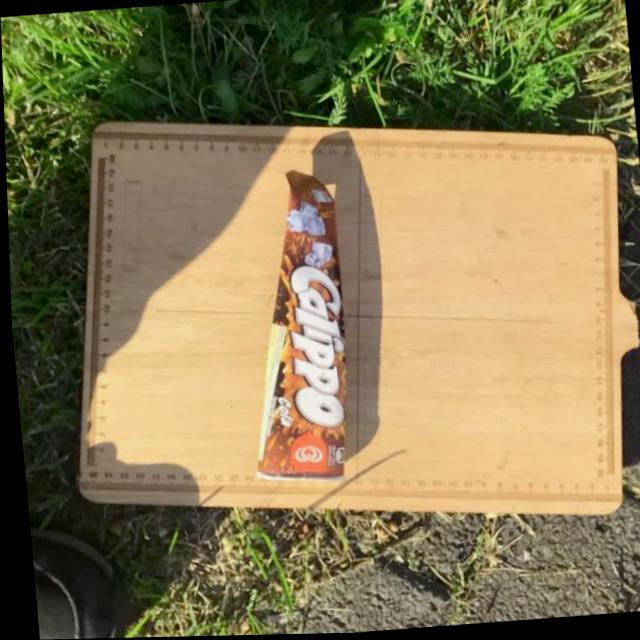Paper: (224, 165, 360, 491)
